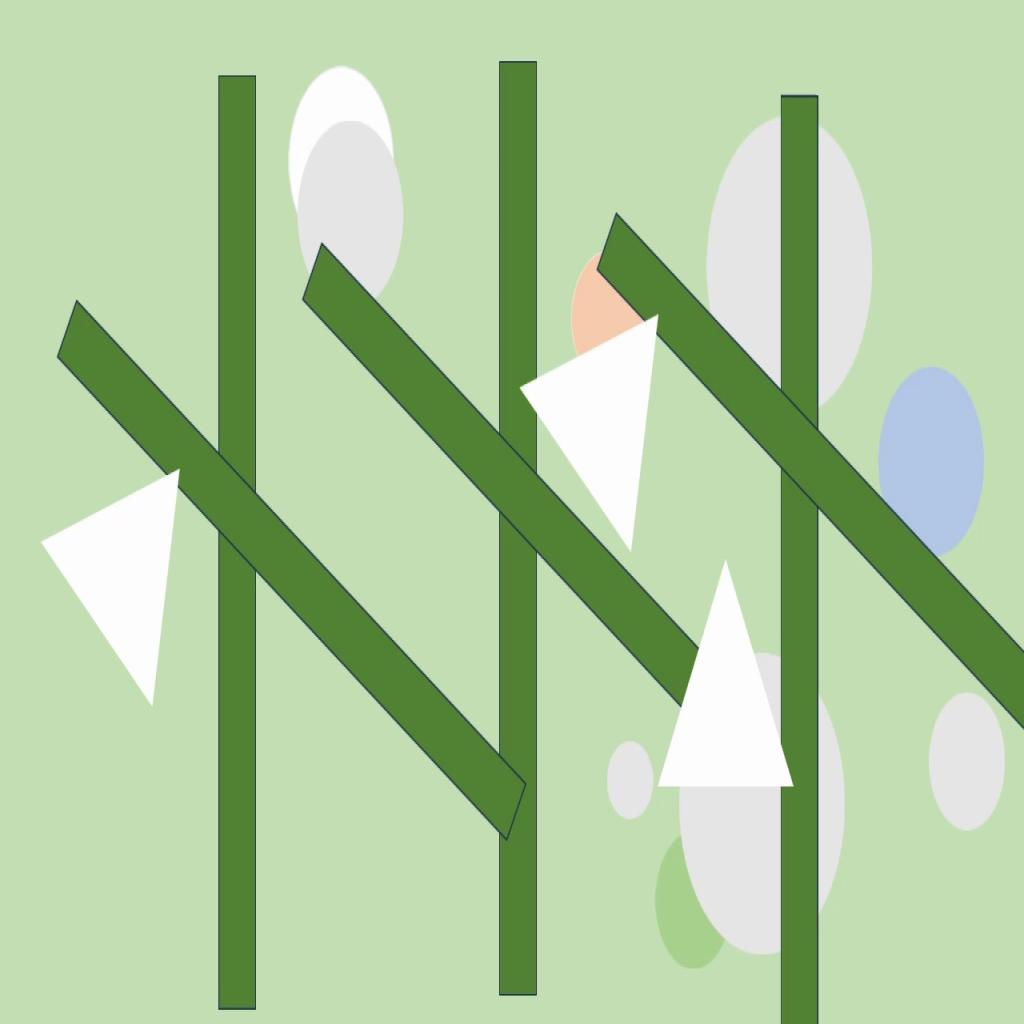Circle: (704, 117, 876, 415), (680, 650, 847, 956), (878, 364, 986, 560), (288, 64, 395, 260), (298, 119, 406, 306), (928, 686, 1008, 834), (571, 250, 652, 388), (654, 836, 731, 970), (605, 738, 655, 818)
